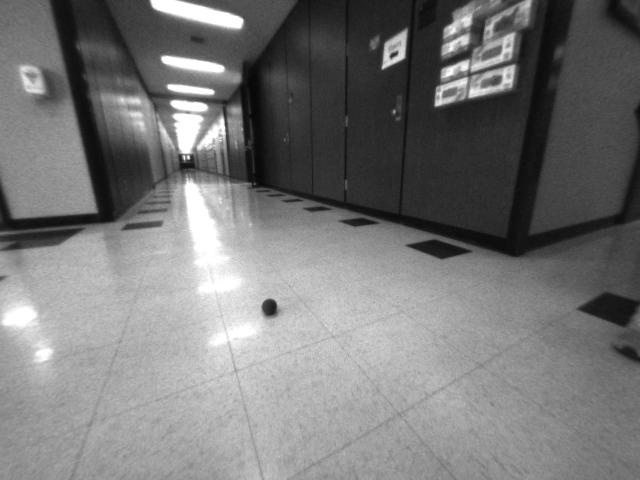dogtoy: (249, 285, 290, 324)
